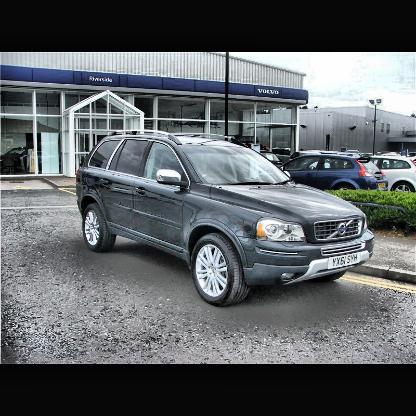Volvo XC90 SUV 2007: (77, 134, 375, 310)
